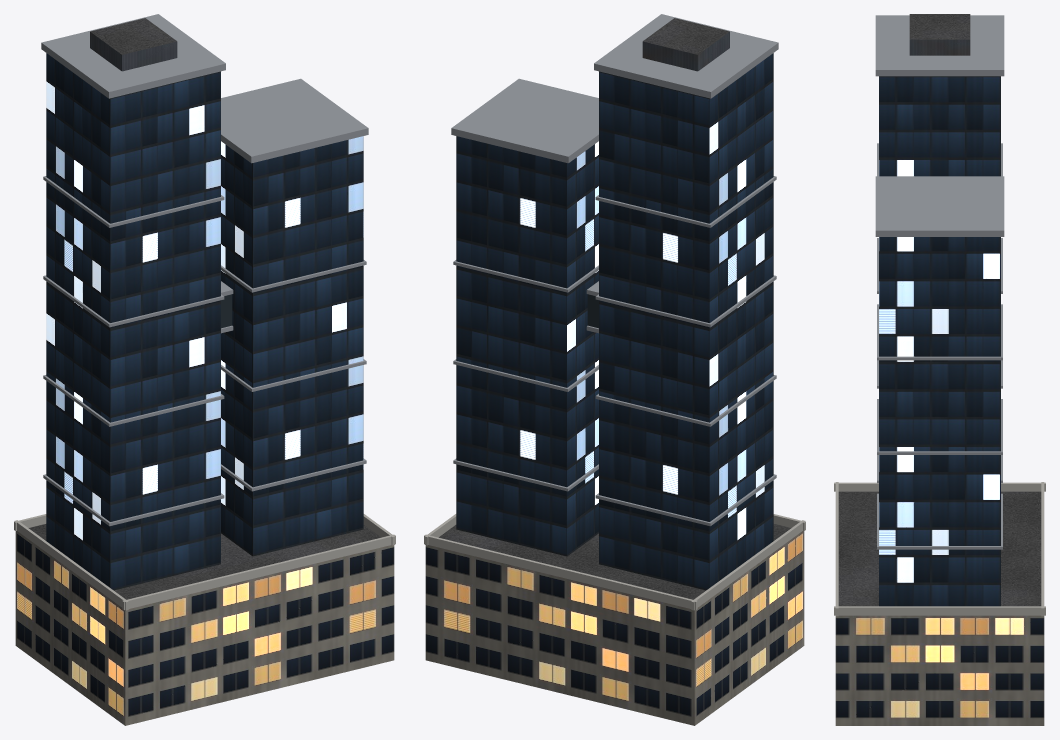
The model's file is building_05.glb.
3 renders of one model, left to right at view 1: azimuth 30°, elevation 25°; view 2: azimuth 150°, elevation 25°; view 3: azimuth 270°, elevation 25°, orthographic. The views are drawn at different scales.
Visible parts, largest first — view 1: Render; view 2: Render; view 3: Render.
Boxes of the visible parts, x1,y1,x2,y2 form: Render: (14, 14, 395, 725); Render: (424, 14, 805, 725); Render: (834, 14, 1045, 725).
Size of the model in its own units: 34.35 by 76.5 by 24.35.
Materials: 7 (4 with a texture image).
